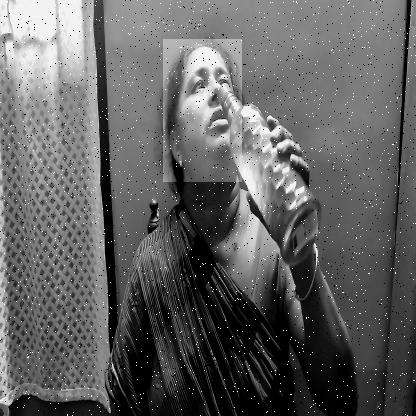Distracted: (163, 39, 242, 182)
